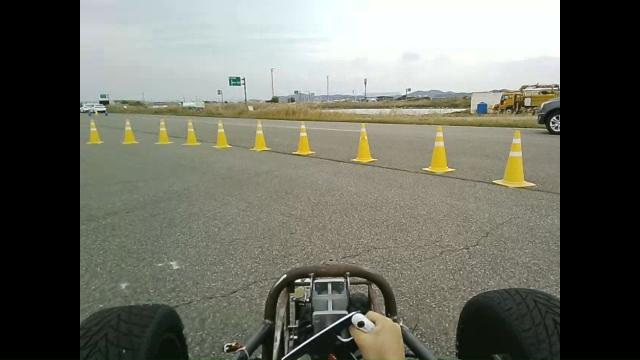yellow cone: (492, 130, 536, 188), (421, 124, 456, 173), (350, 122, 378, 163), (292, 120, 316, 156), (249, 119, 271, 151), (212, 118, 232, 149), (182, 117, 202, 146), (154, 118, 174, 144), (85, 118, 104, 144), (121, 118, 139, 144)
